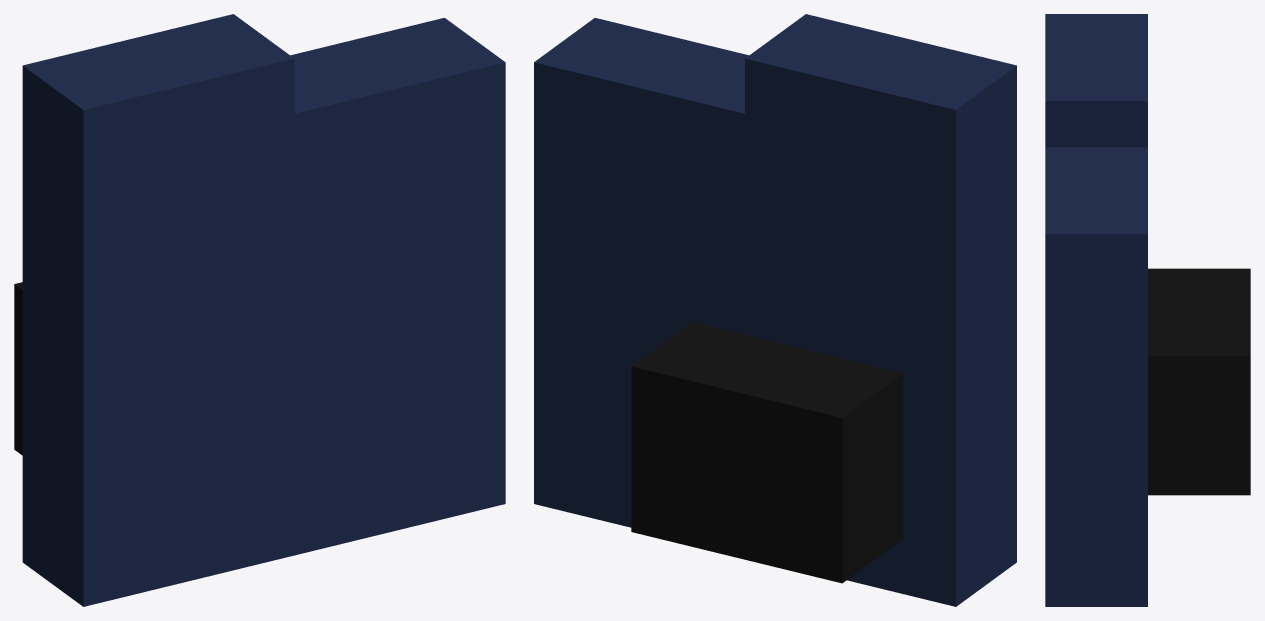
File: touring_bike_lower_fairing.glb
3 renders of one model, left to right at view 1: azimuth 30°, elevation 25°; view 2: azimuth 150°, elevation 25°; view 3: azimuth 270°, elevation 25°, orthographic. The views are drawn at different scales.
Visible parts, largest first — view 1: body:compound; view 2: body:compound; view 3: body:compound.
Part boxes in pixels (box(x1,y1,x2,y2)): body:compound: box(14, 14, 505, 606); body:compound: box(534, 14, 1016, 606); body:compound: box(1045, 14, 1250, 606).
Bounding box in the file's own units: 0.25 × 0.2812 × 0.125.
